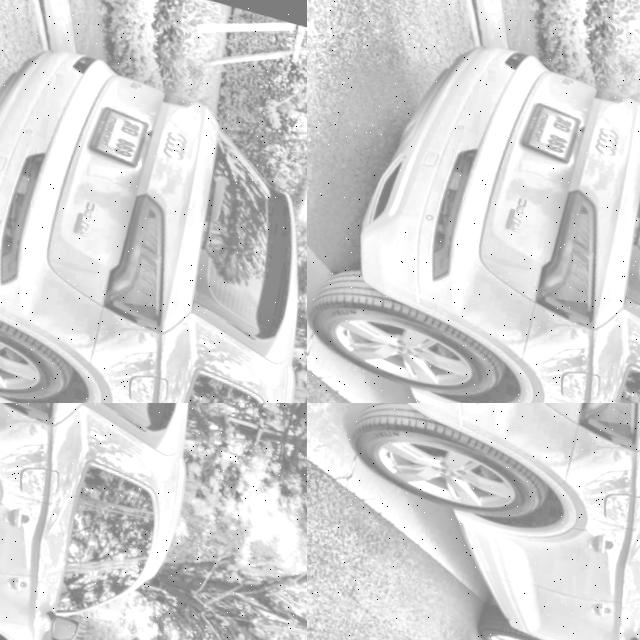license-plate: (453, 241, 554, 369)
